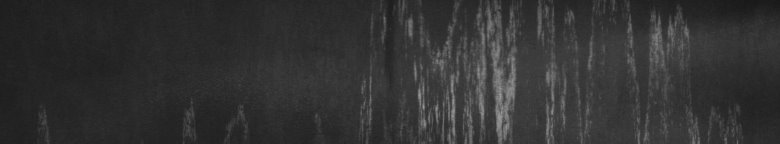ka: (361, 8, 689, 136)
